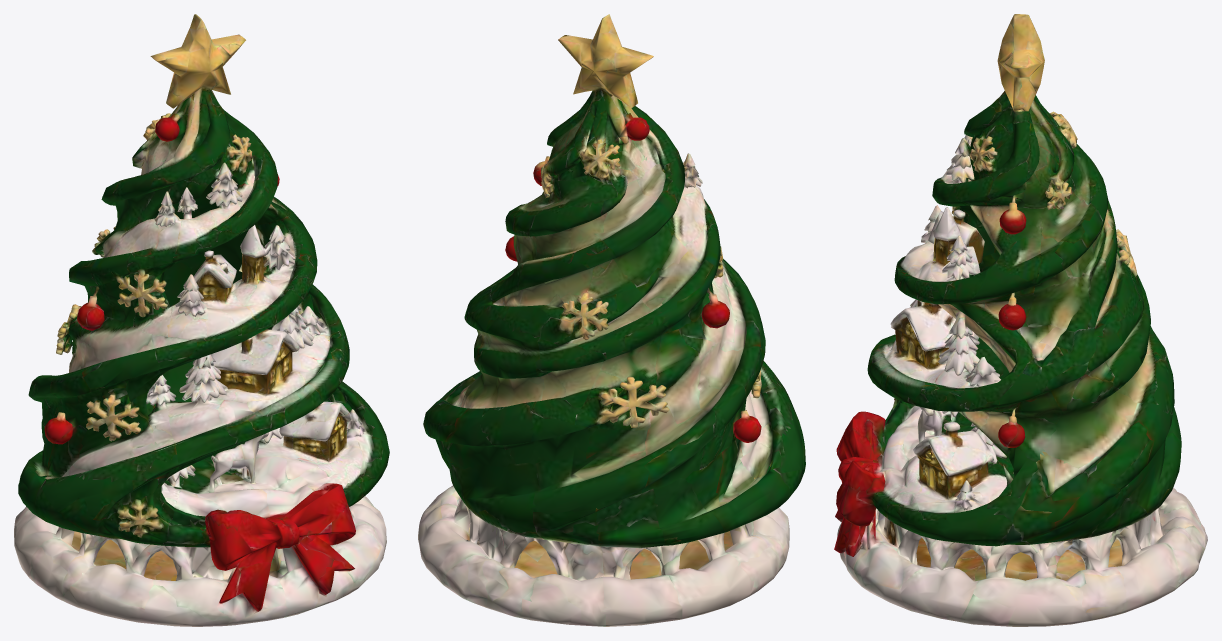
The model's file is xm_magic.glb.
3 renders of one model, left to right at view 1: azimuth 30°, elevation 25°; view 2: azimuth 150°, elevation 25°; view 3: azimuth 270°, elevation 25°, orthographic.
Bounding box in the file's own units: 0.0333 × 0.05 × 0.0316.
1 material, 1 textured.
